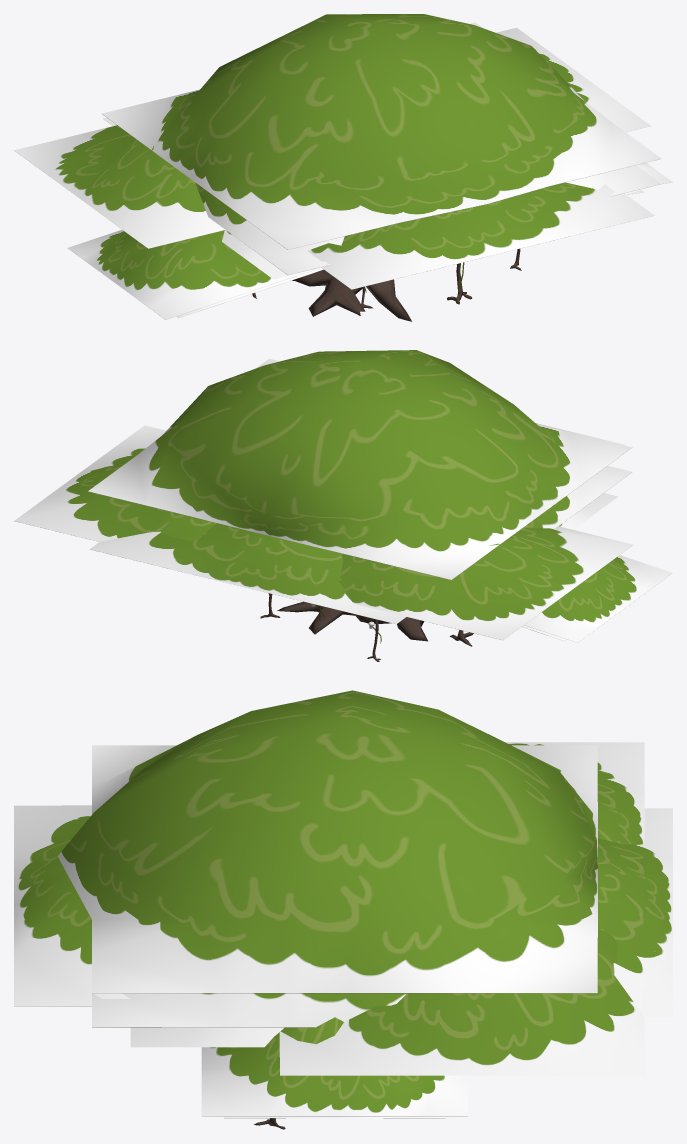
The model's file is NEW BIG TREE.FBX.
3 renders of one model, top to bottom at view 1: azimuth 30°, elevation 25°; view 2: azimuth 150°, elevation 25°; view 3: azimuth 270°, elevation 25°, orthographic. The views are drawn at different scales.
Visible parts, largest first — view 1: Plane005, Plane012, Plane013, Plane003, Plane015, Plane014, Main Tree (big Branch), Plane002, small Branches, Plane016; view 2: Plane005, Plane013, Plane001, Plane014, Plane003, Plane015, Main Tree (big Branch), Plane002, small Branches; view 3: Plane005, Plane014, Plane004, Plane012, Plane001, Plane015, Plane013, Plane002, Plane017.
Part boxes in pixels (bbox=[...]): Plane005: bbox=[101, 14, 661, 249]; Plane012: bbox=[307, 182, 654, 289]; Plane013: bbox=[14, 125, 225, 248]; Plane003: bbox=[67, 230, 318, 319]; Plane015: bbox=[195, 165, 661, 275]; Plane014: bbox=[496, 27, 650, 132]; Main Tree (big Branch): bbox=[292, 269, 412, 321]; Plane002: bbox=[222, 188, 646, 279]; small Branches: bbox=[252, 248, 521, 308]; Plane016: bbox=[177, 268, 323, 317]; Plane005: bbox=[88, 350, 632, 580]; Plane013: bbox=[339, 526, 633, 640]; Plane001: bbox=[89, 523, 406, 624]; Plane014: bbox=[14, 425, 216, 541]; Plane003: bbox=[524, 555, 672, 642]; Plane015: bbox=[523, 466, 632, 528]; Main Tree (big Branch): bbox=[277, 601, 427, 641]; Plane002: bbox=[559, 493, 618, 529]; small Branches: bbox=[260, 593, 473, 661]; Plane005: bbox=[57, 690, 597, 993]; Plane014: bbox=[279, 928, 644, 1075]; Plane004: bbox=[201, 1017, 468, 1116]; Plane012: bbox=[14, 805, 129, 1006]; Plane001: bbox=[598, 808, 672, 1017]; Plane015: bbox=[92, 993, 407, 1027]; Plane013: bbox=[505, 742, 644, 844]; Plane002: bbox=[130, 1027, 283, 1047]; Plane017: bbox=[224, 1116, 445, 1118].
Bounding box in the file's own units: 2812 × 1288 × 2297.
